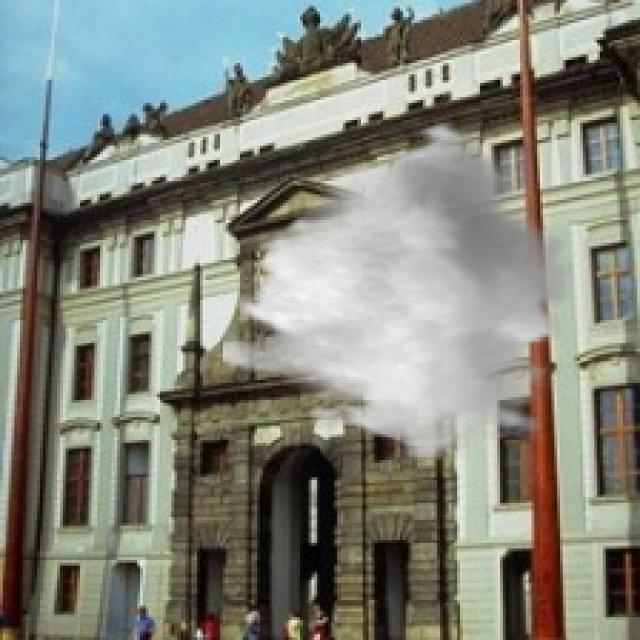smoke: (220, 114, 574, 460)
